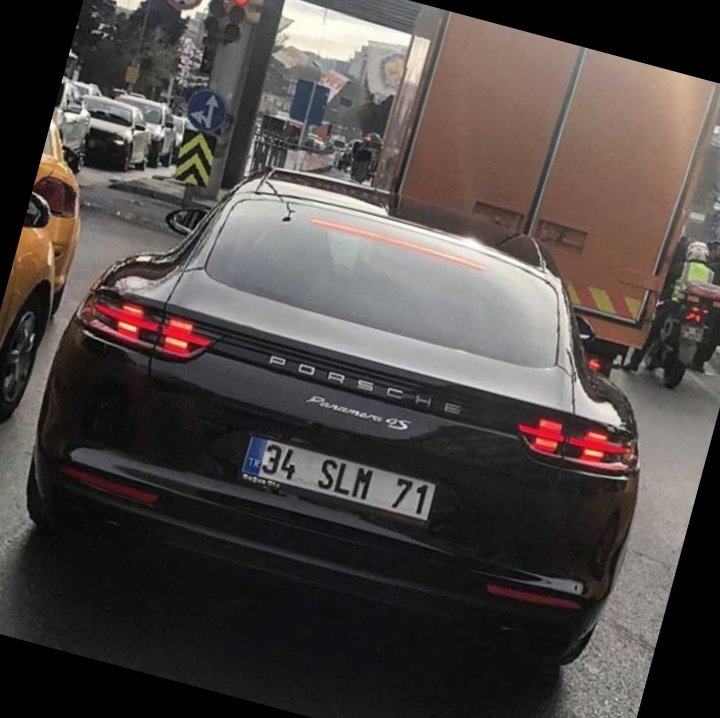plaka: (259, 432, 435, 520)
